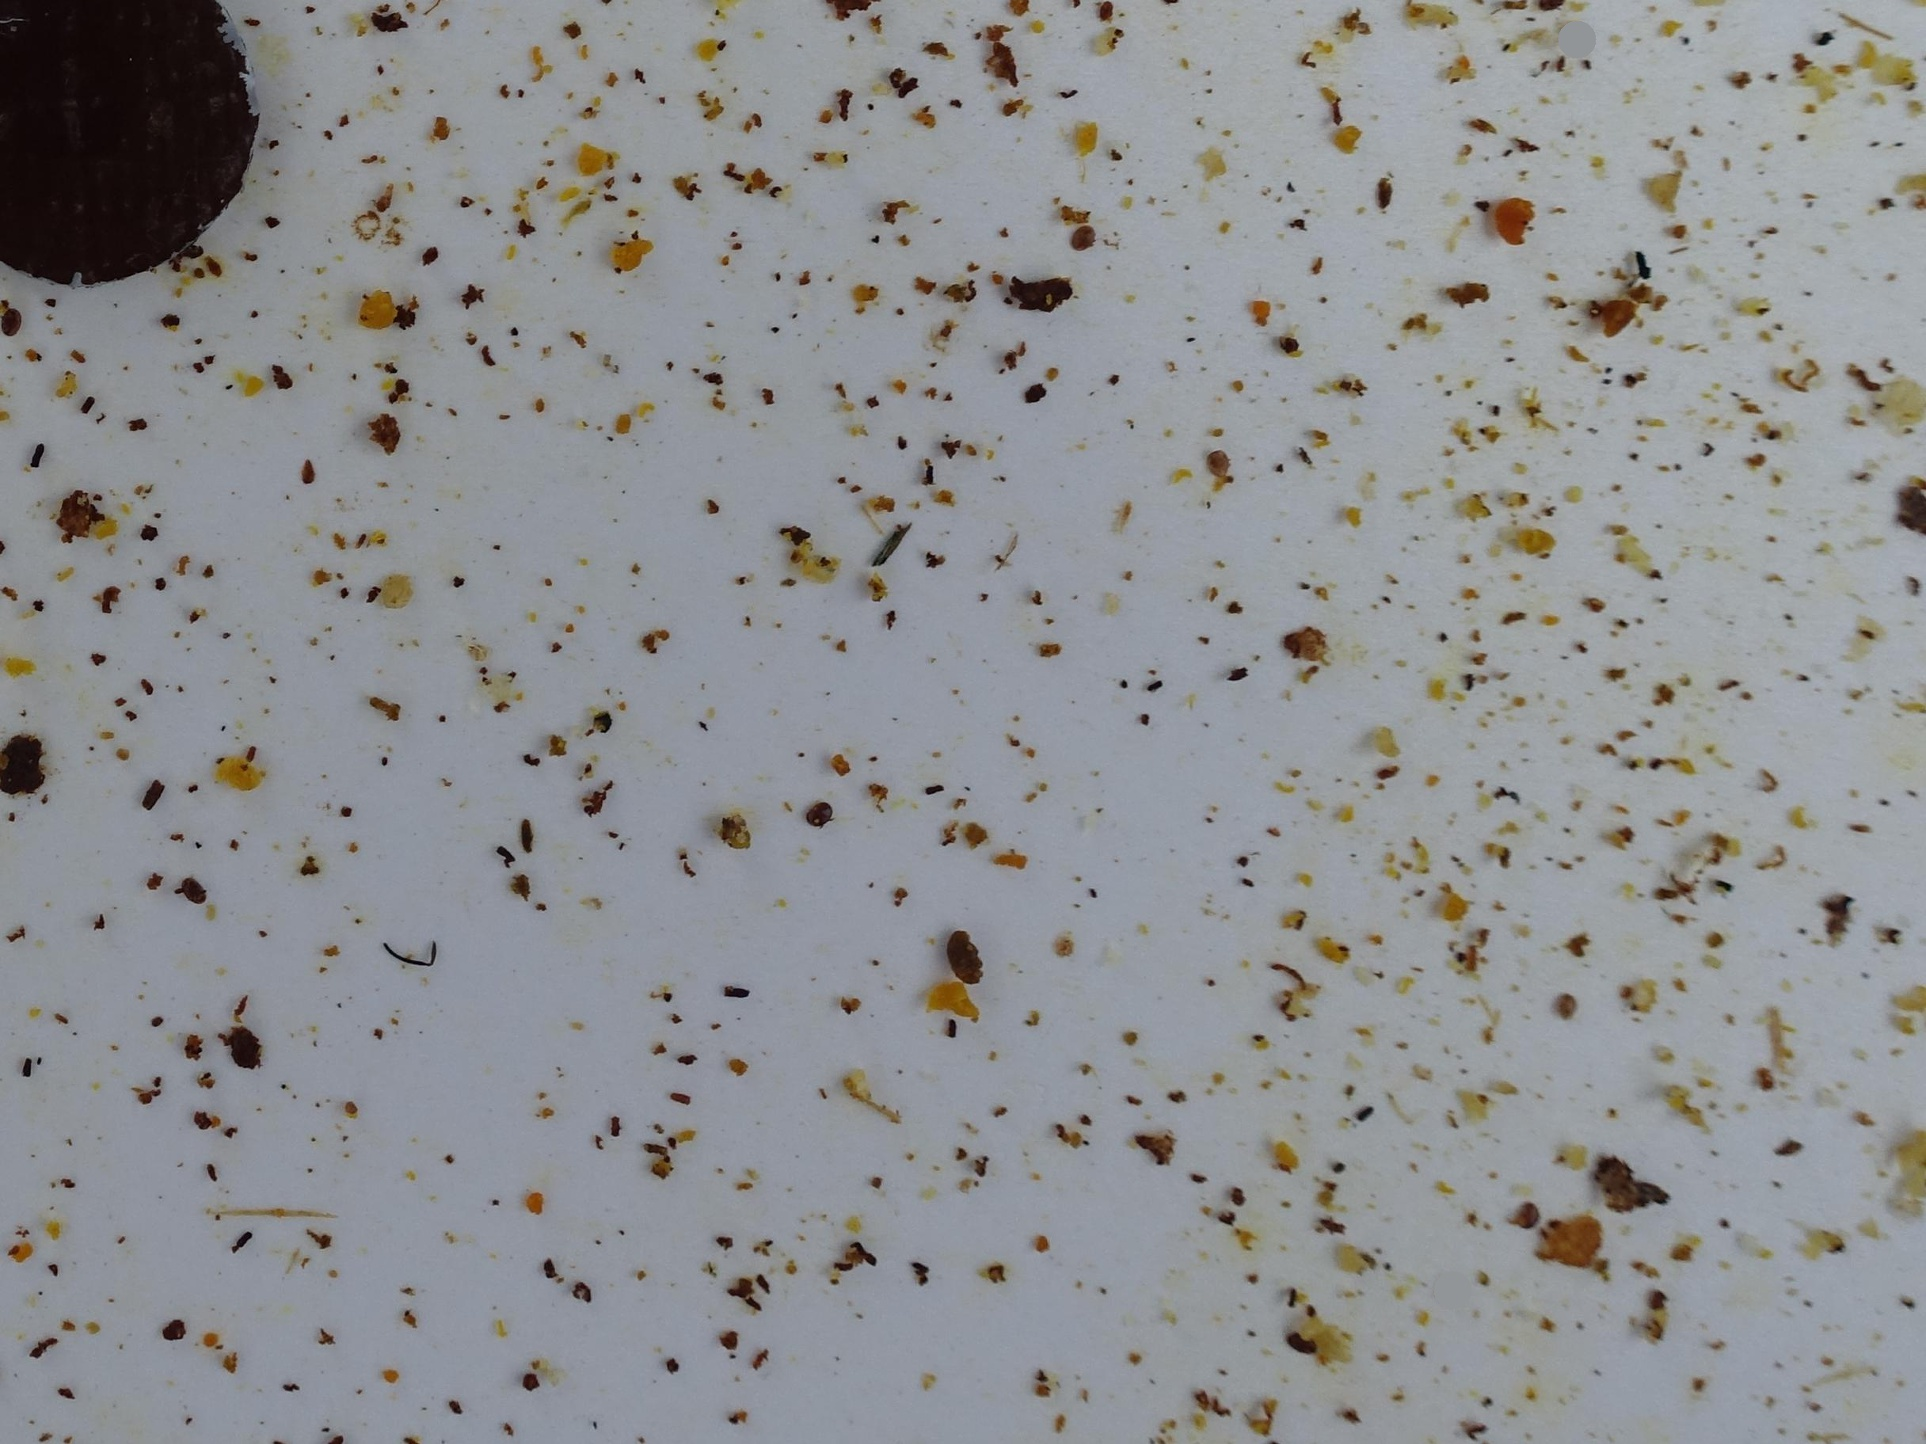Varroa: (796, 793, 842, 837), (168, 868, 209, 912), (1062, 212, 1103, 253), (1197, 440, 1237, 481), (1512, 1191, 1548, 1232)
